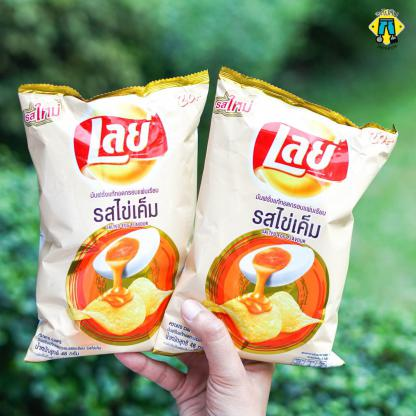potatochip: (136, 61, 404, 379), (12, 65, 220, 365)
